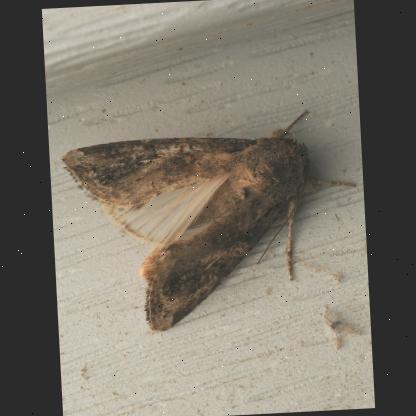Fall Armyworm Moth: (55, 103, 366, 339)
